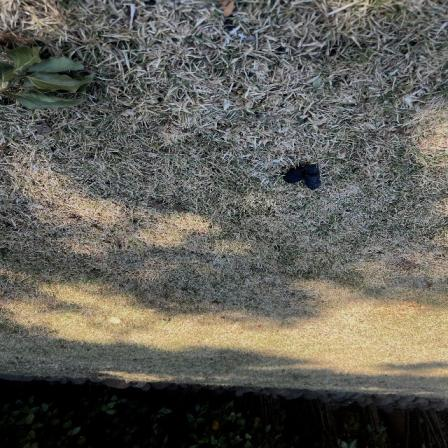dog-poop: (286, 153, 321, 198)
